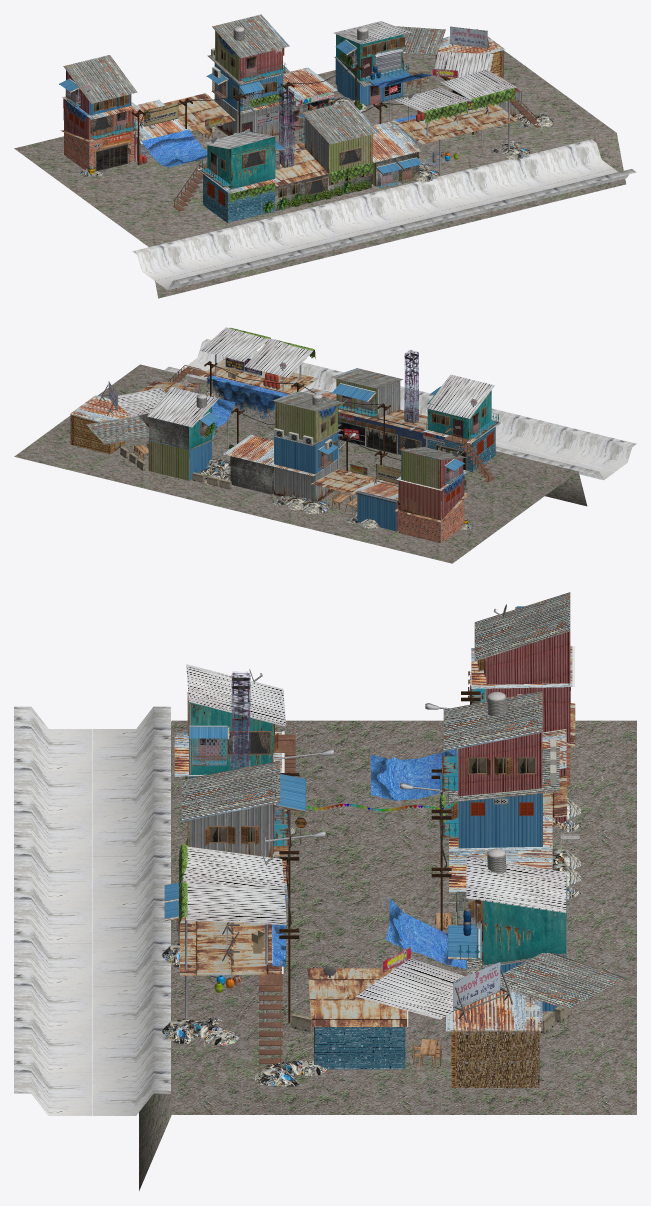
Rendered from 1784829468216_chennai_slum.glb.
The picture shows the model from 3 angles, top to bottom: view 1: azimuth 30°, elevation 25°; view 2: azimuth 150°, elevation 25°; view 3: azimuth 270°, elevation 25°; orthographic projection. The views are drawn at different scales.
Visible parts, largest first — view 1: pPlane13, polySurface23, polySurface30, polySurface26, sewage_Comp14, sewage_Comp17, sewage_Comp15, sewage_Comp16, sewage_Comp12, sewage_Comp19, sewage_Comp10, sewage_Comp13 (+51 smaller); view 2: pPlane13, polySurface27, Building_Cover5, sewage_Comp22, sewage_Comp20, Roof_Building_06, polySurface29, polySurface28, Front_Buidling_2, sewage_Comp9, Front_Building_09, Roof_Building_10 (+47 smaller); view 3: pPlane13, Front_Buidling_23, Roof_Building_07, Side_Building_016, polySurface30, Roof_Building_10, Roof_Building_06, polySurface26, Side_Building_5, Front_Buidling_20, polySurface23, polySurface28 (+44 smaller).
Part boxes in pixels (box(x1,y1,x2,y2)): pPlane13: box(14, 50, 625, 298); polySurface23: box(63, 55, 137, 103); polySurface30: box(301, 100, 378, 144); polySurface26: box(212, 14, 289, 58); sewage_Comp14: box(335, 189, 408, 231); sewage_Comp17: box(540, 139, 613, 181); sewage_Comp15: box(284, 202, 357, 243); sewage_Comp16: box(233, 214, 305, 256); sewage_Comp12: box(438, 164, 511, 206); sewage_Comp19: box(182, 227, 254, 268); sewage_Comp10: box(489, 152, 562, 193); sewage_Comp13: box(387, 177, 459, 218); pPlane13: box(14, 364, 587, 563); polySurface27: box(426, 374, 494, 418); Building_Cover5: box(206, 375, 288, 421); sewage_Comp22: box(568, 432, 636, 471); sewage_Comp20: box(522, 421, 590, 459); Roof_Building_06: box(147, 387, 218, 427); polySurface29: box(244, 338, 313, 377); polySurface28: box(200, 327, 269, 361); Front_Buidling_2: box(398, 480, 441, 520); sewage_Comp9: box(491, 409, 542, 448); Front_Building_09: box(148, 440, 188, 480); Roof_Building_10: box(86, 416, 148, 444); pPlane13: box(139, 720, 636, 1190); Front_Buidling_23: box(451, 1030, 539, 1087); Roof_Building_07: box(307, 968, 408, 1026); Side_Building_016: box(482, 897, 566, 965); polySurface30: box(181, 761, 280, 821); Roof_Building_10: box(500, 953, 626, 1009); Roof_Building_06: box(466, 855, 566, 912); polySurface26: box(443, 691, 542, 751); Side_Building_5: box(458, 789, 542, 848); Front_Buidling_20: box(314, 1027, 405, 1069); polySurface23: box(474, 592, 570, 661); polySurface28: box(185, 883, 286, 925).
Size of the model in its own units: 41.79 by 12.37 by 26.94.
10 materials, 9 textured.
